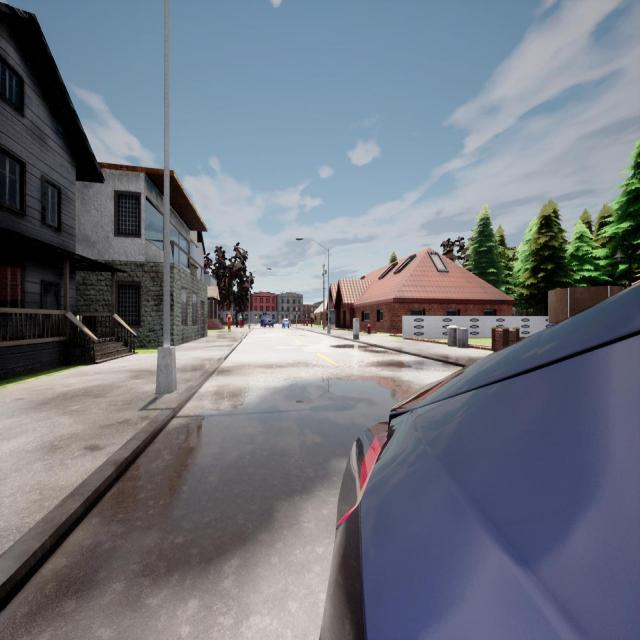Pedestrian: (226, 312, 232, 332), (311, 313, 314, 328), (239, 314, 242, 328)
Vehicle: (320, 285, 640, 637), (261, 315, 271, 325), (264, 319, 274, 327), (283, 318, 290, 328)
traffic_light: (295, 308, 298, 315)
